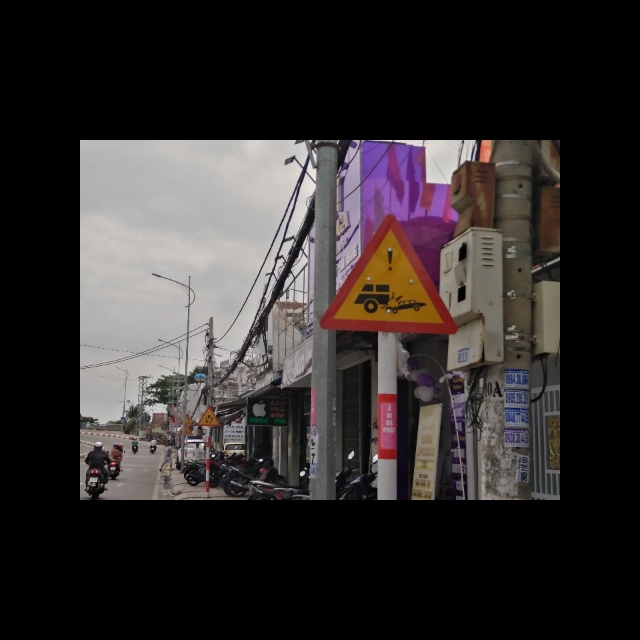Đoạn đường hay xảy ra tai nạn: (318, 213, 462, 335)
Đường đôi: (196, 405, 220, 427)
